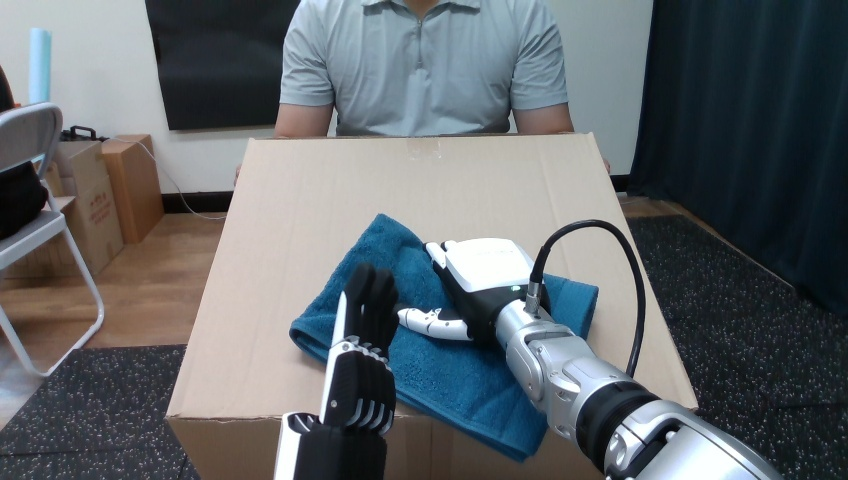left robot hand: (398, 220, 780, 479), (274, 263, 397, 479), (541, 227, 638, 372)
